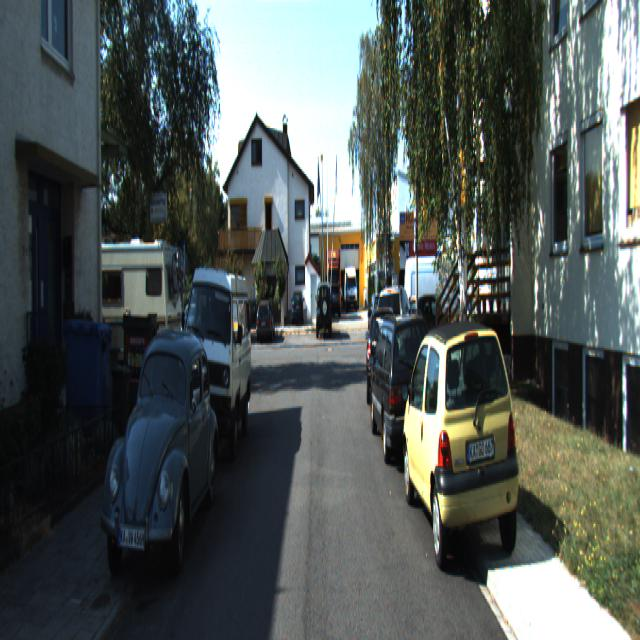Car: (92, 323, 224, 588), (400, 312, 523, 572), (61, 242, 190, 394), (176, 258, 252, 468), (367, 308, 445, 467), (402, 252, 472, 340), (374, 280, 415, 374), (366, 302, 400, 399), (315, 278, 332, 336), (255, 297, 274, 340)
